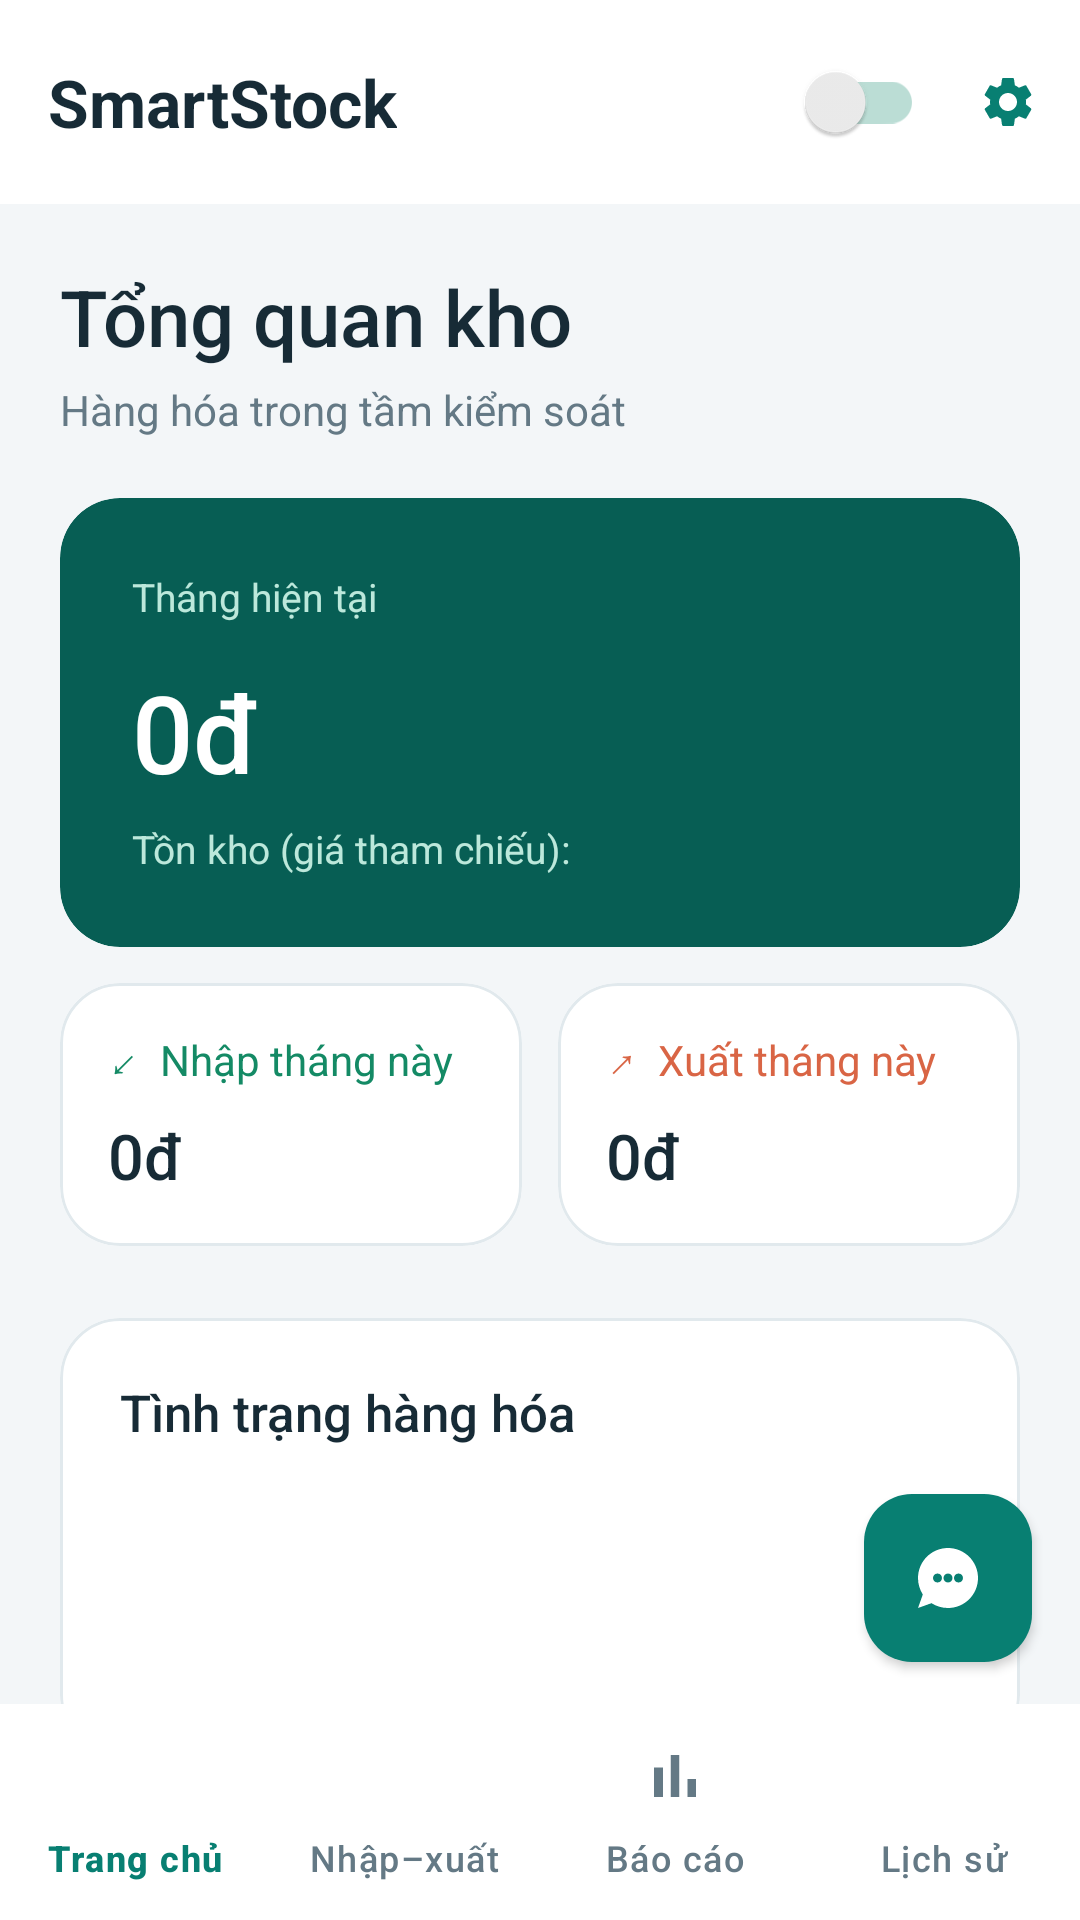

Screen size 1080w x 1920h. Icon name, then its box in pixels as (x1, y1, x2, y2):
AI: (864, 1494, 1032, 1662)
Cài đặt: (984, 78, 1032, 126)
